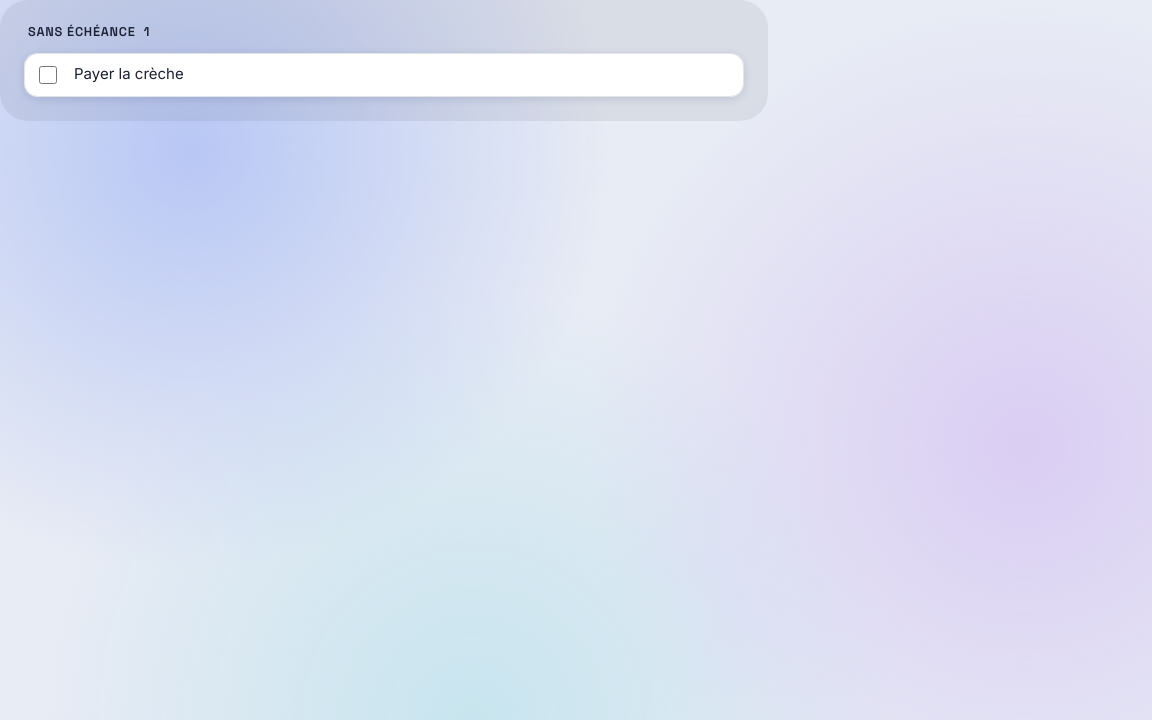
Test: liste des tâches : cocher › case désactivée pendant l'appel, sans mise à jour optimiste, puis erreur dans la ligne
The width and height of the screenshot is (1152, 720).
Later steps or results of the test are not shown.
What coordinates should you click on to do the following:
click the checkbox named "Terminer « Payer la crèche »"
I would click on:
 (48, 74)
Its box is [39,66,57,84].
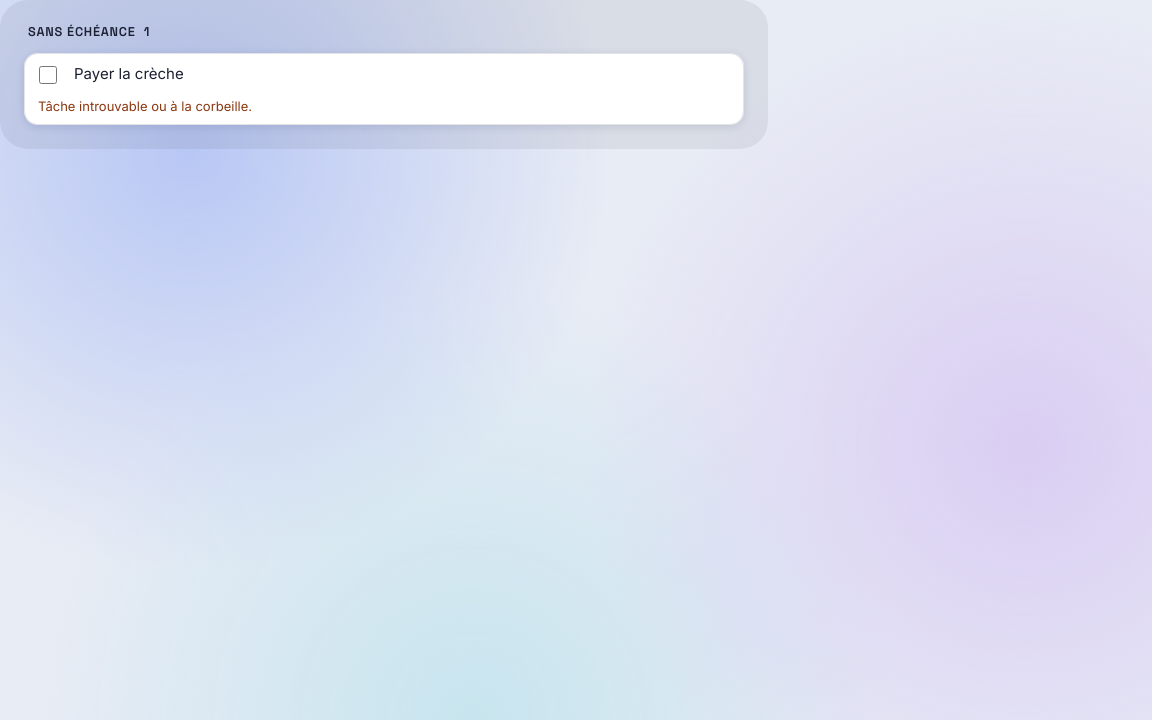
Result: the text "Tâche introuvable ou à la corbeille." is shown at [38,98,252,114]
